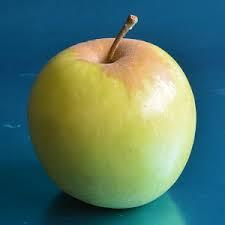Apple: (25, 11, 199, 210)
